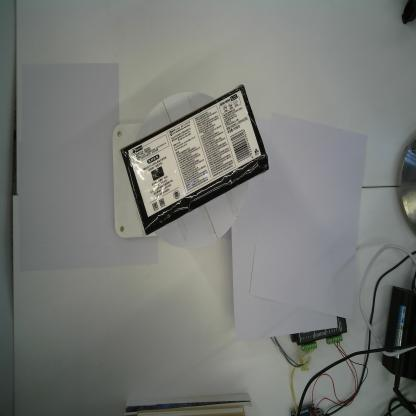Tissue: (121, 84, 268, 236)
